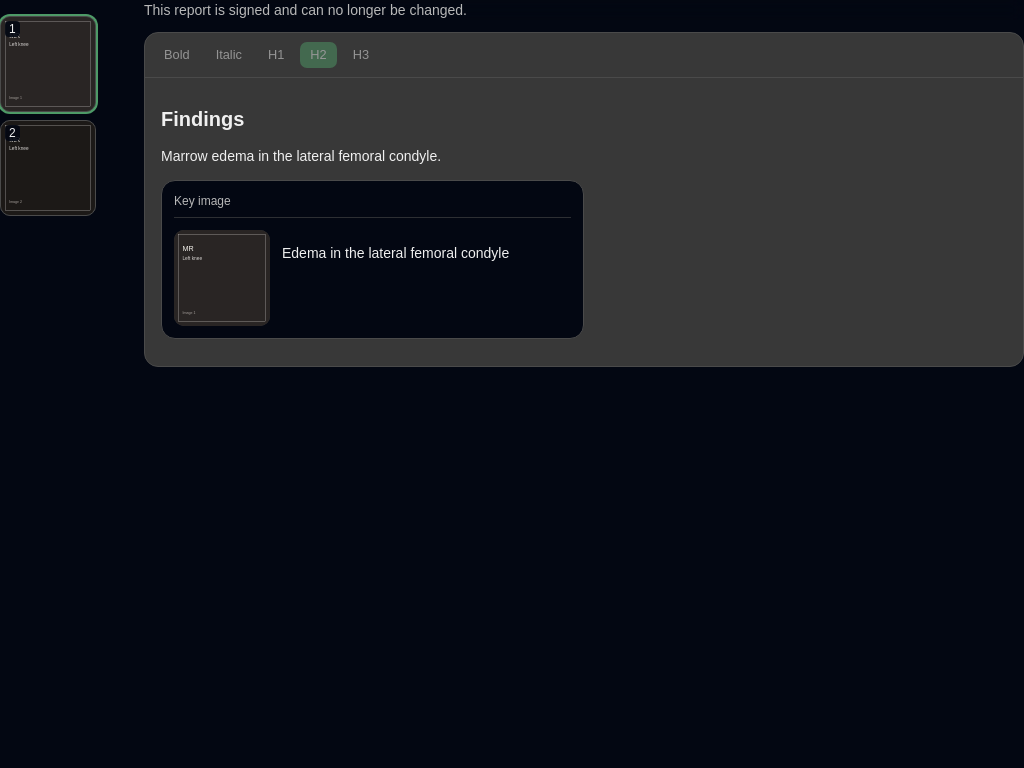
keeps a signed report read-only
Expected: the text "This report is signed and can no longer be changed." is shown, [144,0,467,20]
Expected: the button "Bold" is disabled, [153,41,201,69]
Click the button named "Image 2". click: (48, 168)
box: [0,120,96,216]
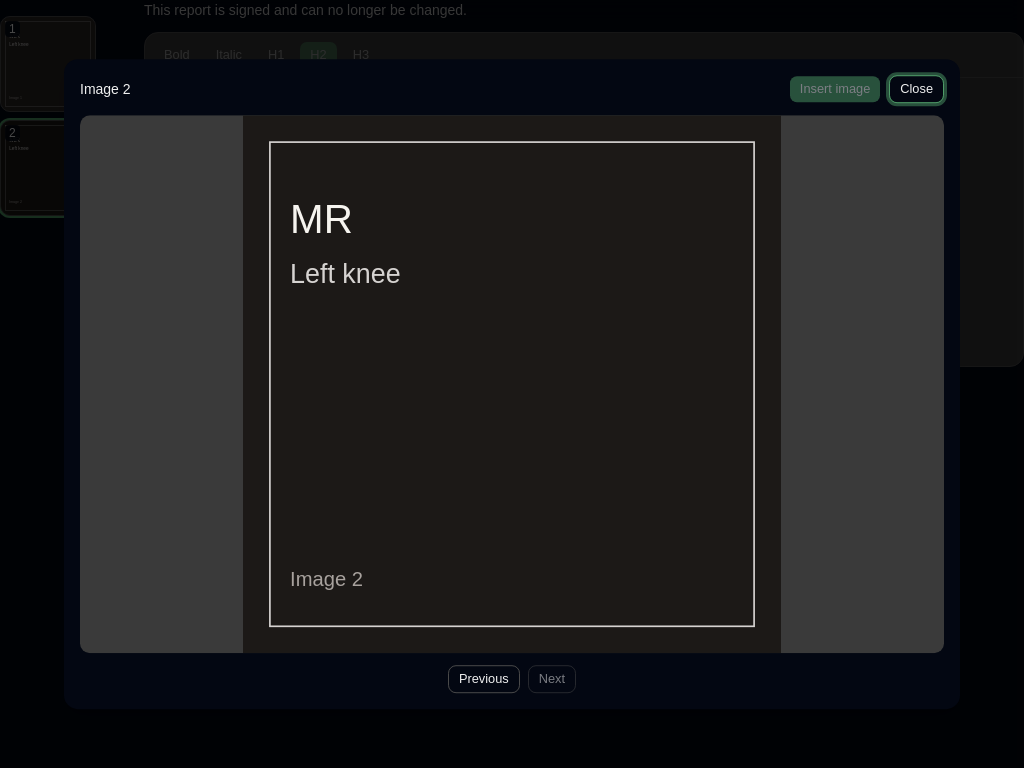
Expected: the button "Insert image" is disabled, [789,75,881,103]
